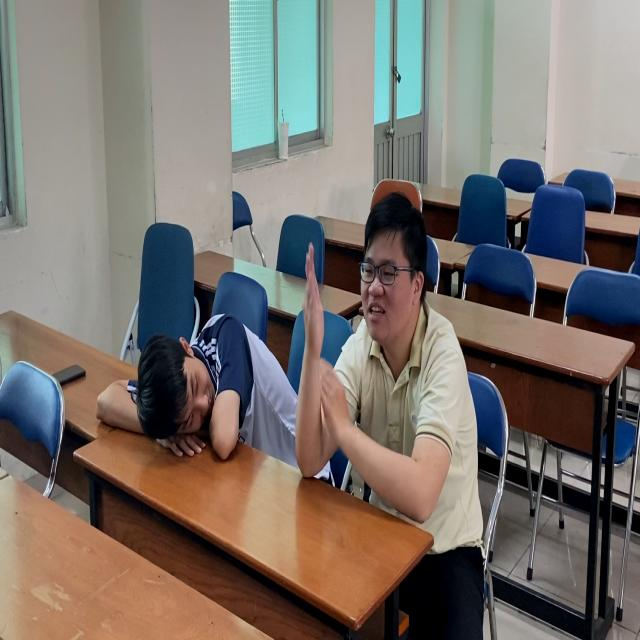raise_hand: (291, 183, 472, 537)
sleep: (93, 291, 301, 483)
